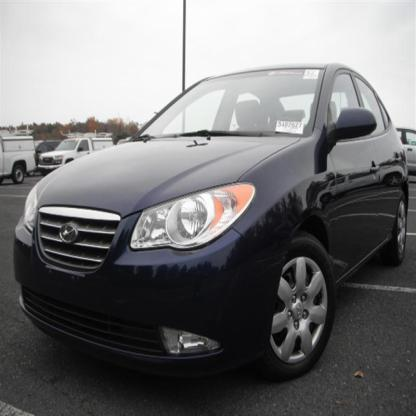Vehicle: (15, 65, 408, 378)
